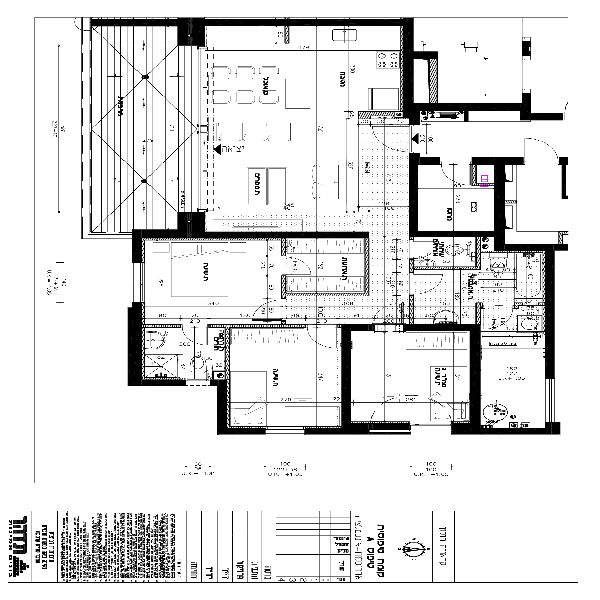door: (368, 116, 411, 151), (374, 301, 417, 333), (413, 268, 453, 302), (303, 321, 338, 355), (524, 134, 559, 167), (442, 161, 468, 189)
room: (178, 14, 417, 244), (342, 319, 477, 436), (217, 328, 353, 434)
window: (128, 264, 146, 306), (266, 424, 307, 439), (546, 382, 558, 422)
